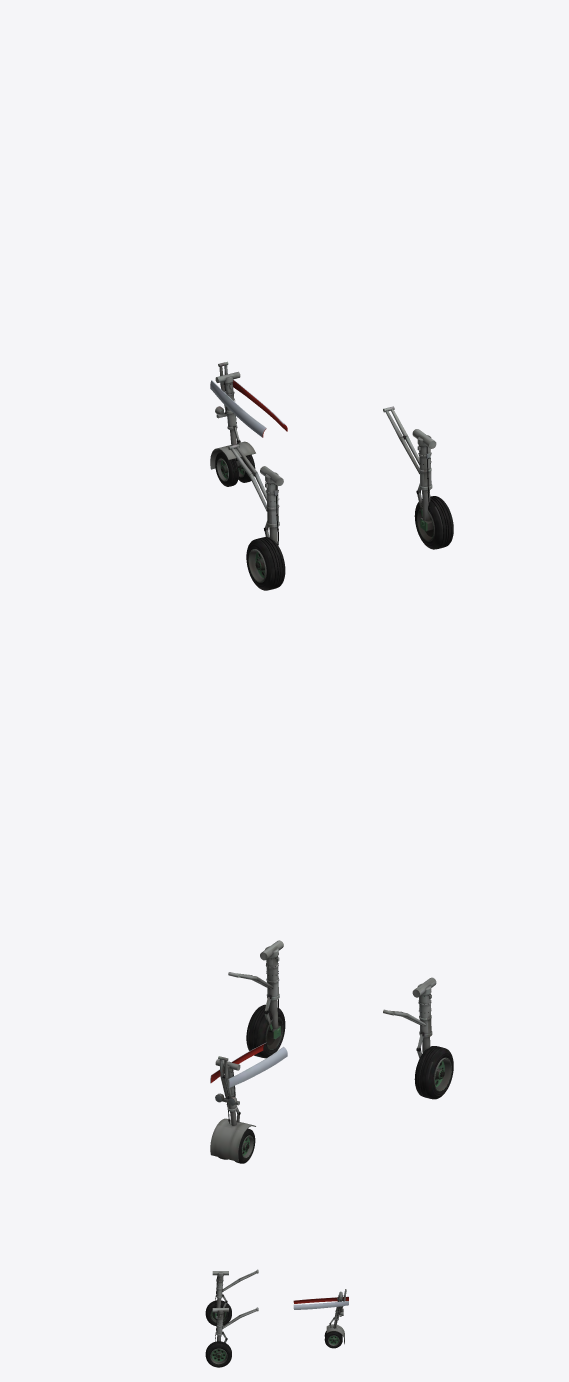
Rendered from e_mig29k_gear.glb.
3 views of the same model, one above another, from view 1: azimuth 30°, elevation 25°; view 2: azimuth 150°, elevation 25°; view 3: azimuth 270°, elevation 25° (orthographic). The views are drawn at different scales.
Visible parts, largest first — view 1: body|K29_paint; view 2: body|K29_paint; view 3: body|K29_paint.
Boxes of the visible parts, x1,y1,x2,y2 form: body|K29_paint: [210, 361, 453, 590]; body|K29_paint: [210, 940, 453, 1163]; body|K29_paint: [205, 1269, 348, 1367].
Size of the model in its own units: 3.43 by 5.38 by 17.19.
Materials: 2 (1 with a texture image).
